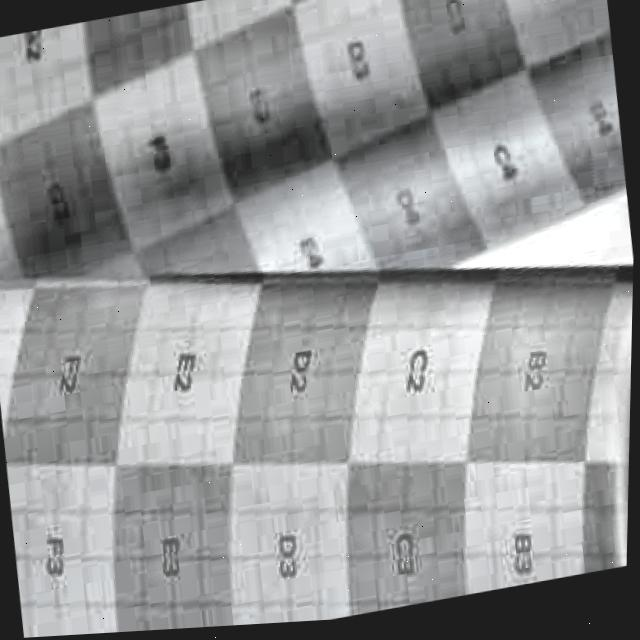metal: (0, 147, 637, 640), (0, 0, 640, 378)
